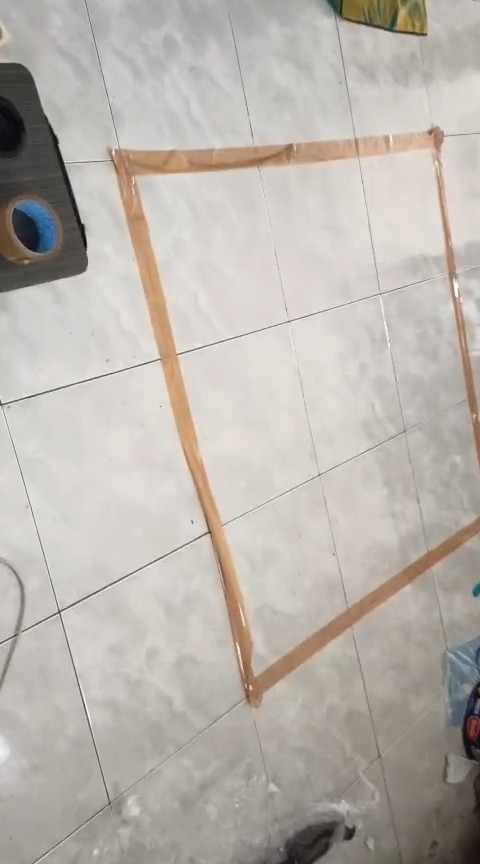floor marking: (111, 127, 479, 705)
